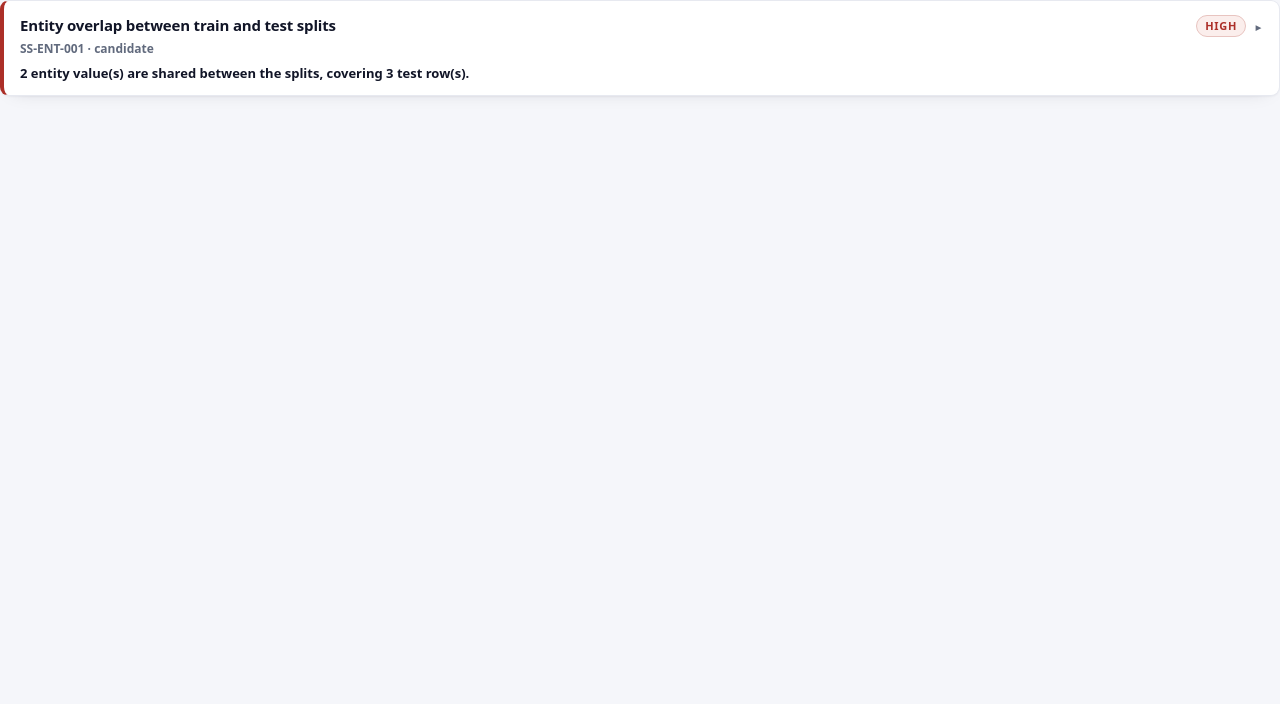
Test: collapsed and expanded evidence › shows the summary collapsed, then reveals the real evidence when expanded
Later steps or results of the test are not shown.
Expected: the text "Entity overlap between train and test splits" is shown, [20,15,336,35]
Expected: the text "SS-ENT-001 · candidate" is shown, [20,40,154,57]
Step 1. Click the button "Entity overlap between train and test splits" → [178, 25], box [20,13,1184,83]
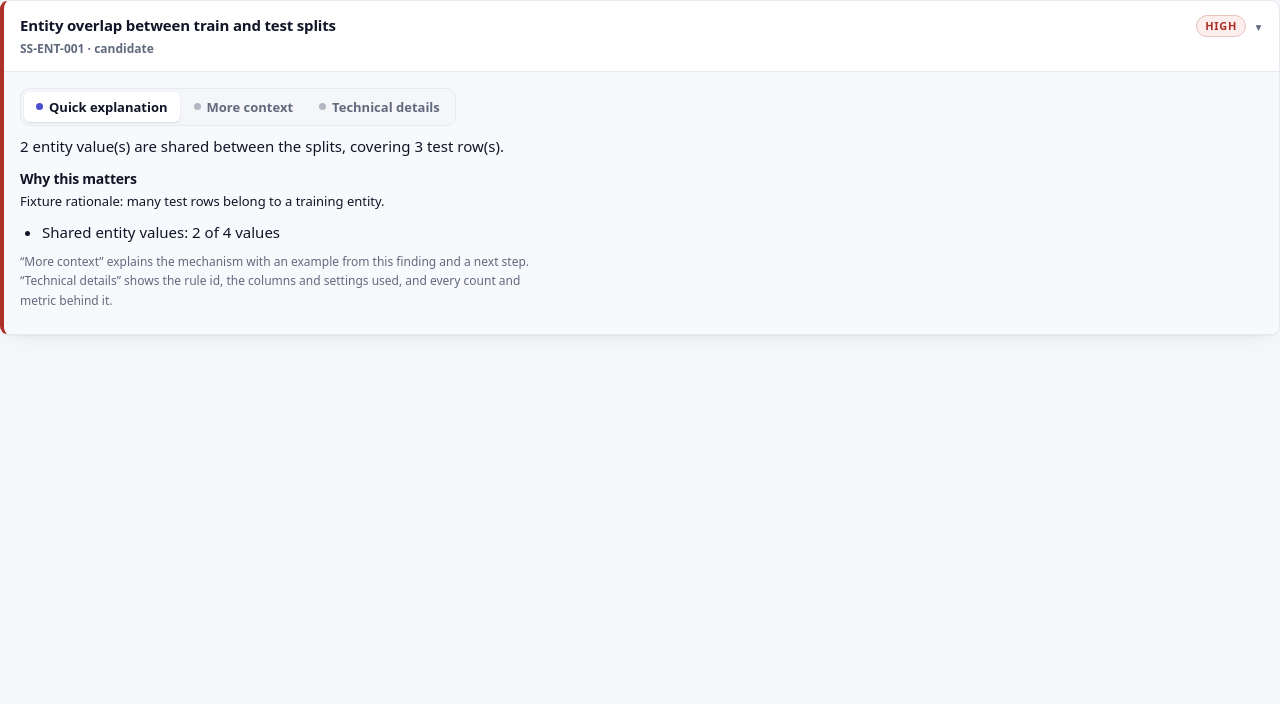
Result: the heading "Why this matters" is shown at [20,169,137,188]
Result: the text "Fixture rationale: many test rows belong to a training entity." is shown at [20,192,385,210]
Result: the list item "Shared entity values: 2 of 4 values" is shown at [42,222,280,242]
Step 2. Click the button "More context" → [243, 107], box [182,92,305,122]
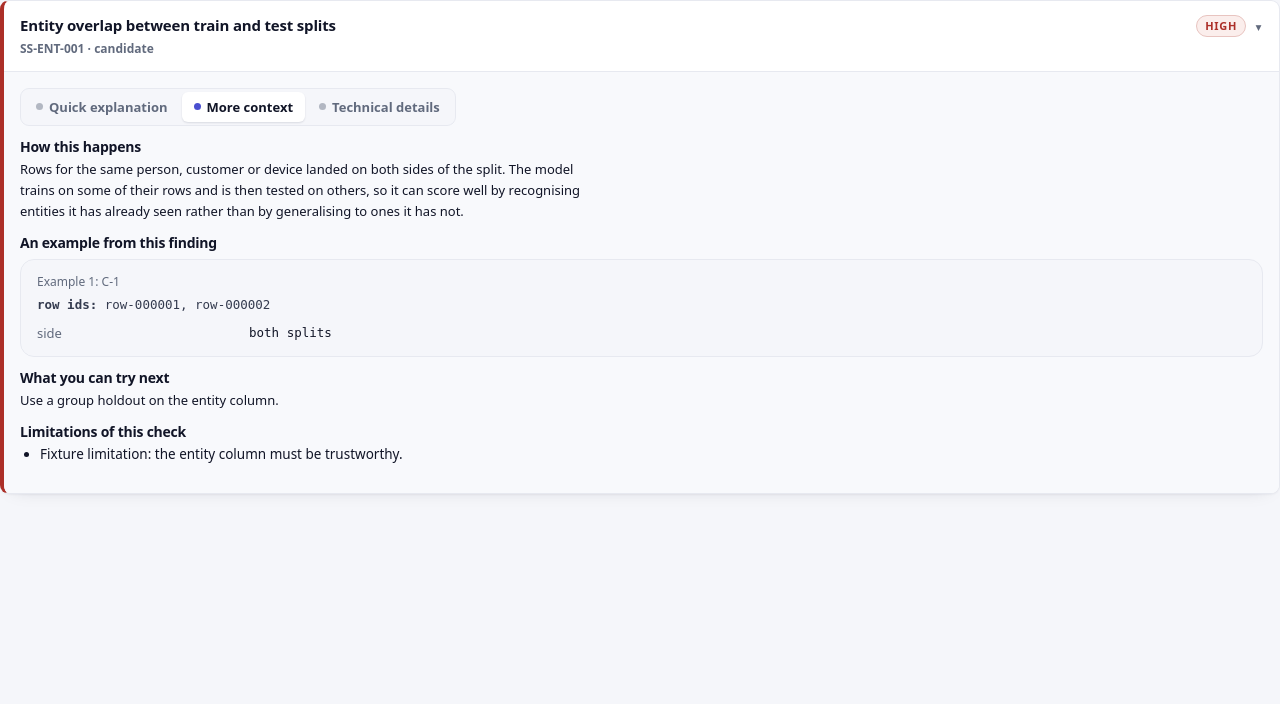
Result: the text "Rows for the same person, customer or device landed on both sides" is shown at [20,160,580,220]
Result: the text "Example 1: C-1" is shown at [37,273,120,290]
Result: the text "side" is shown at [37,324,62,342]
Step 3. Click the button "Technical details" → [379, 107], box [307,92,452,122]
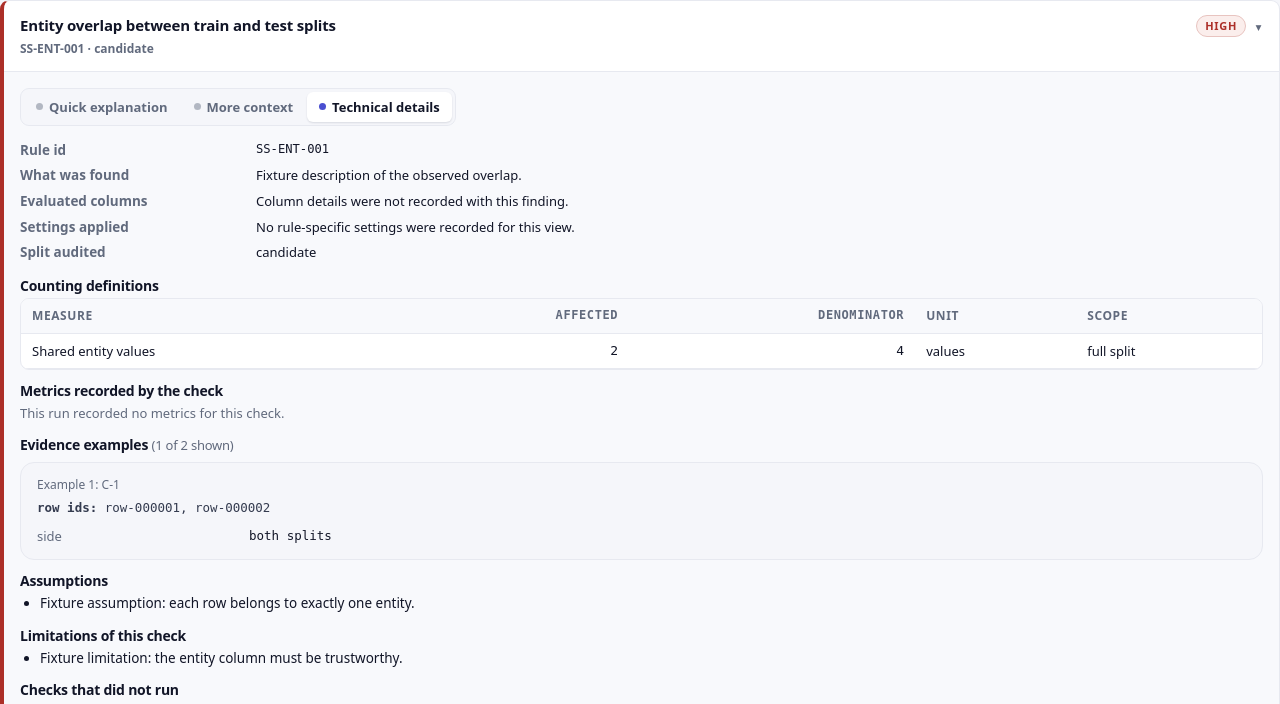
Result: the text "What was found" is shown at [20,166,129,184]
Result: the text "Fixture description of the observed overlap." is shown at [256,166,522,184]
Result: the row "Shared entity values 2 4 values full split" is shown at [21,333,1262,369]
